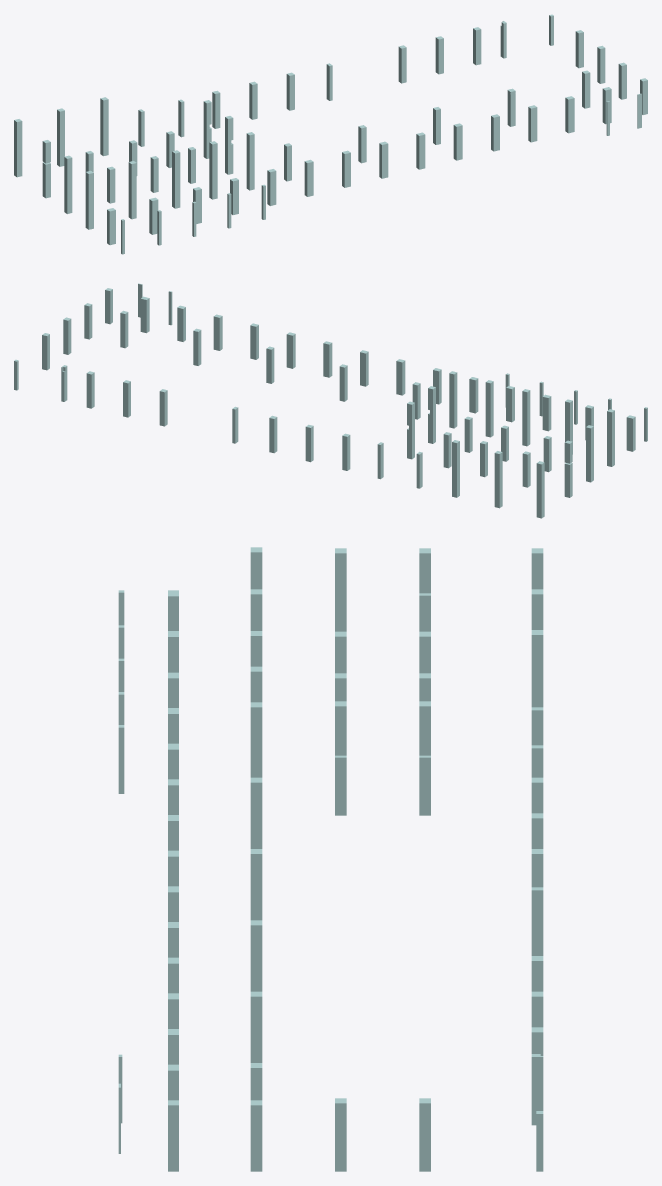
Rendered from detail-support-3-2f.glb.
The picture shows the model from 3 angles, top to bottom: view 1: azimuth 30°, elevation 25°; view 2: azimuth 150°, elevation 25°; view 3: azimuth 270°, elevation 25°; orthographic projection. The views are drawn at different scales.
Bounding box in the file's own units: 104 × 10.3 × 36.26.
